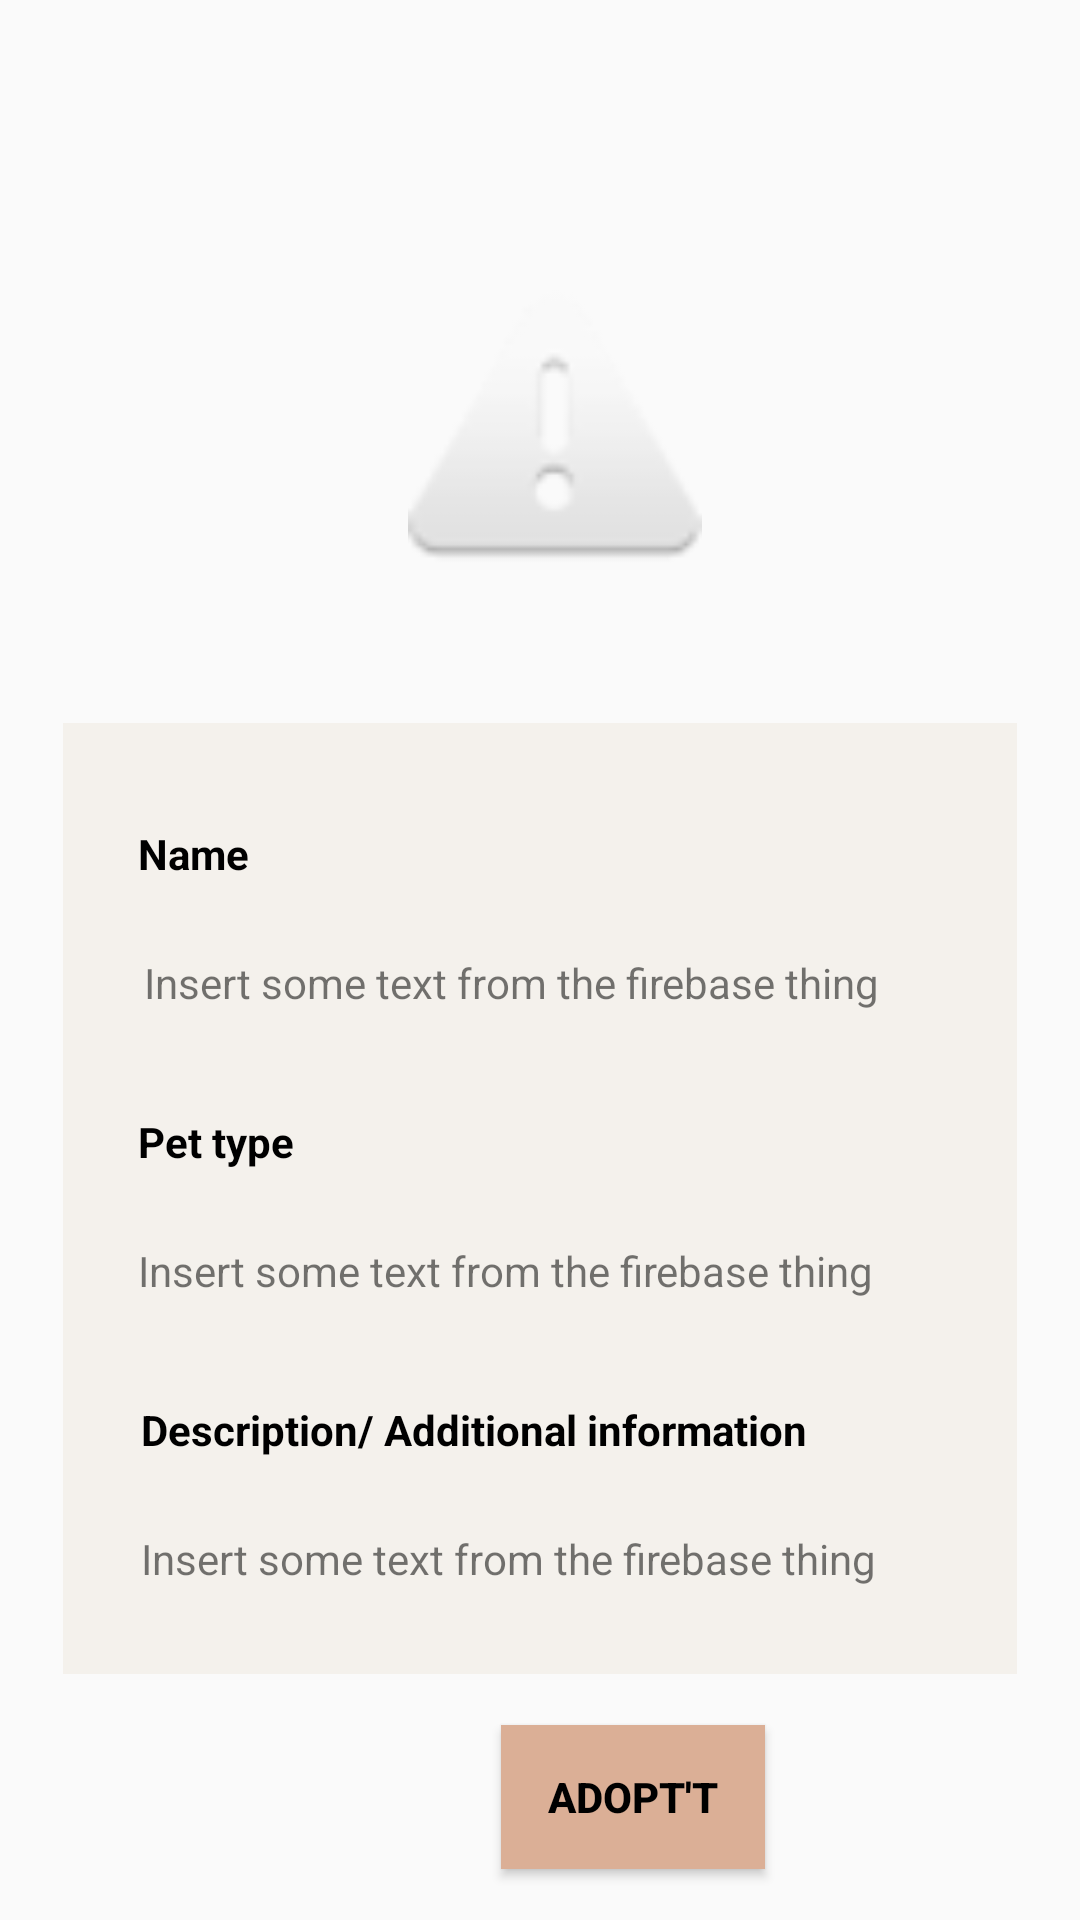

Where to tap for icons on this 1080px x 1920px app screen, as [x,y]:
alert: [552,457]
